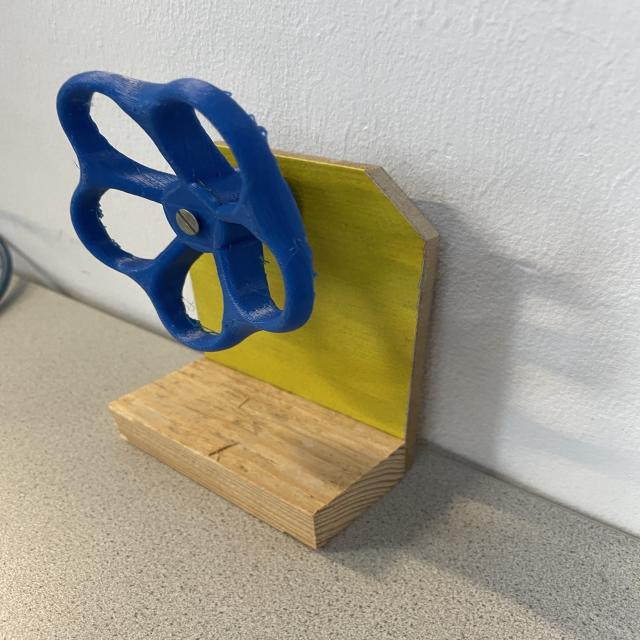Wheel Handle Valve Threaded: (54, 69, 319, 352)
